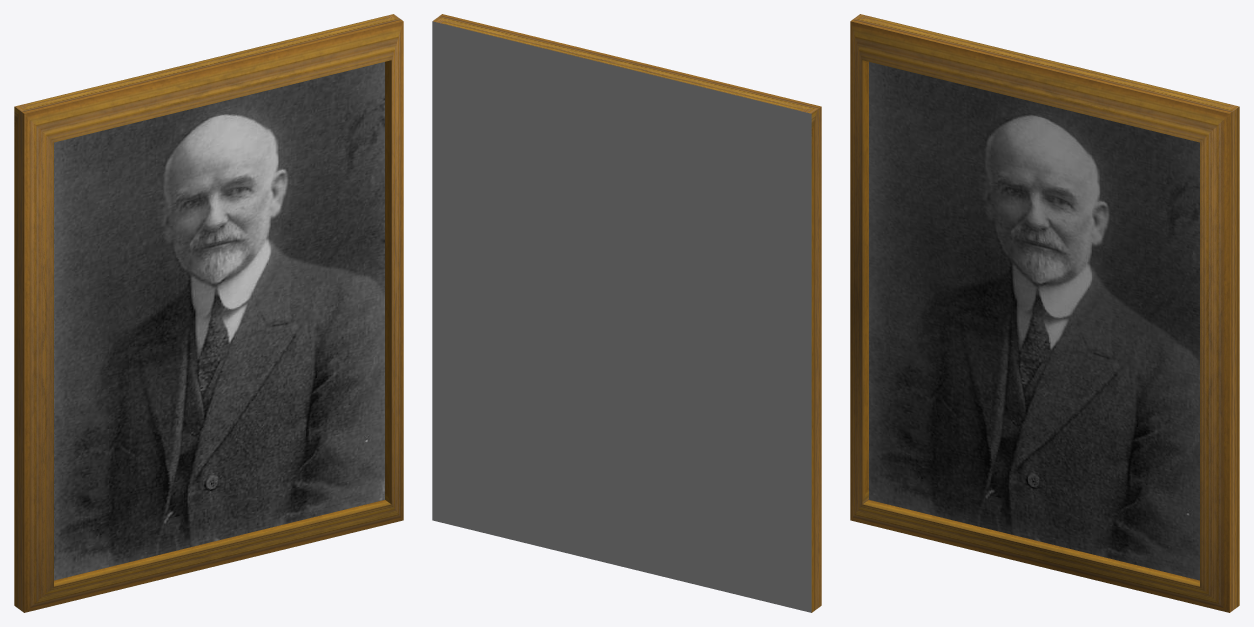
The model's file is Portrait1.fbx.
3 views of the same model, side by side, from view 1: azimuth 30°, elevation 25°; view 2: azimuth 150°, elevation 25°; view 3: azimuth 330°, elevation 25° (orthographic).
Visible parts, largest first — view 1: pCube3, pCube4; view 2: pCube4; view 3: pCube3, pCube4.
Boxes of the visible parts, box(x1,y1,x2,y2) form: pCube3: box(54, 62, 384, 580); pCube4: box(14, 14, 403, 612); pCube4: box(432, 14, 821, 612); pCube3: box(869, 62, 1199, 580); pCube4: box(850, 14, 1239, 612).
Size of the model in its own units: 1.09 by 1.37 by 0.0934.
3 materials, 2 textured.
